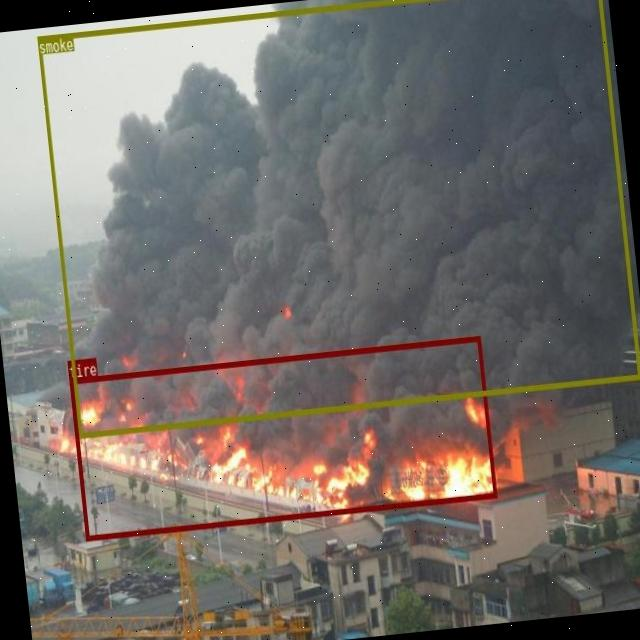fire: (69, 336, 496, 540)
smoke: (36, 0, 640, 437)
